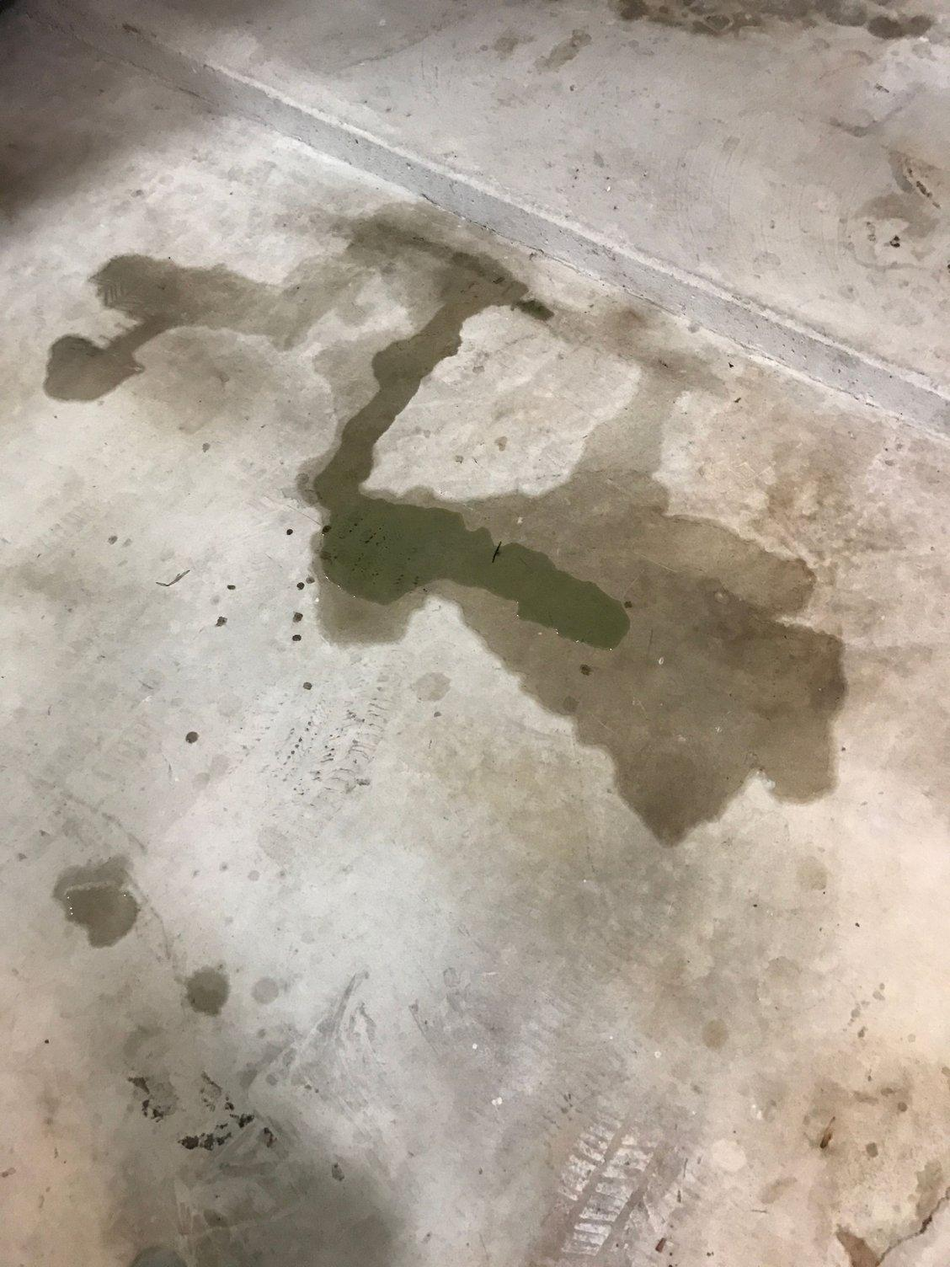water accumulation: (48, 198, 854, 828)
